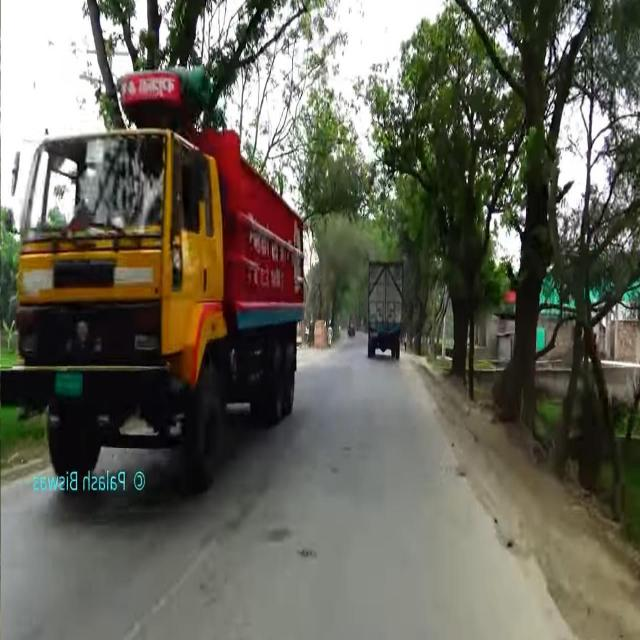truck: (2, 43, 310, 495), (360, 245, 408, 366)
